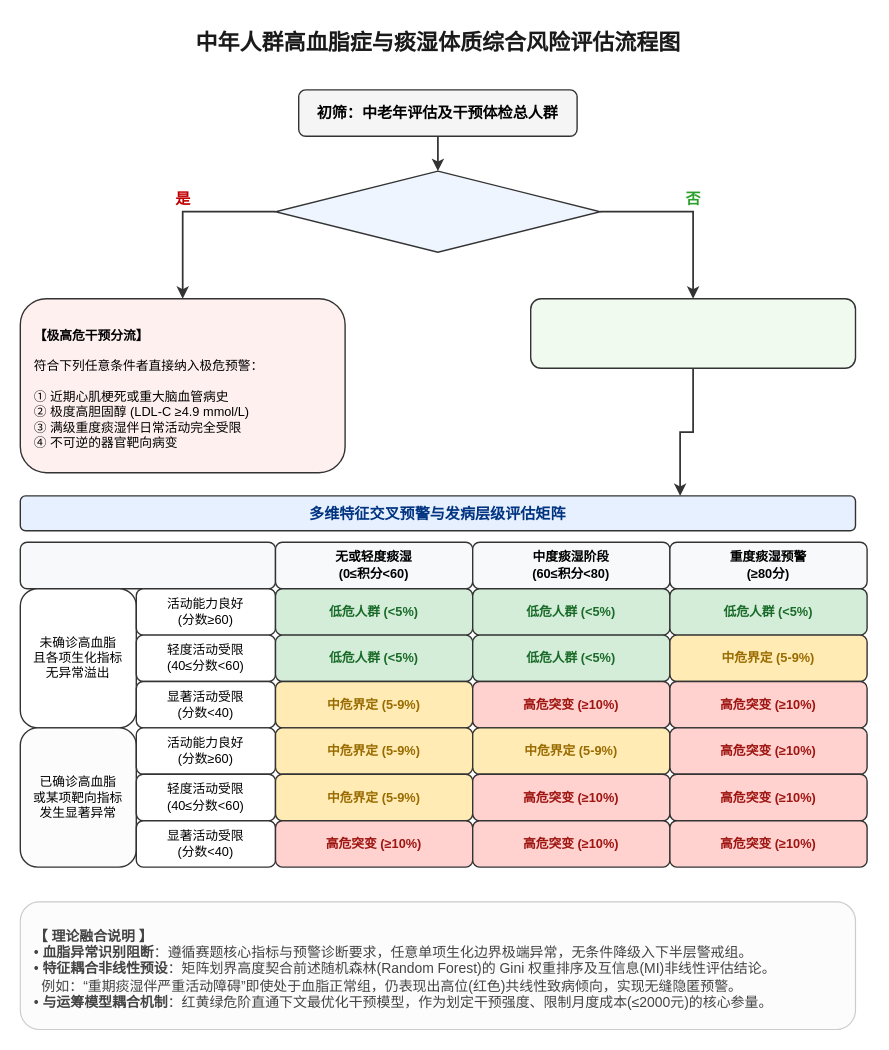
Some shapes in this 889 by 1050 pixel diagram are drawn without their labels. The centre of each missing label's shape, as x and y in pixels:
"不符合上方左侧各项危重症指标者， 进入常规队列，综合下列表格确立危险等级" goes at pixel 692 332.
"是否存在较严重的合并病史？ (如严重冠心病、缺血性脑卒中等)" goes at pixel 437 211.
"核心血脂状态 | 日常活动受限量级" goes at pixel 147 565.
